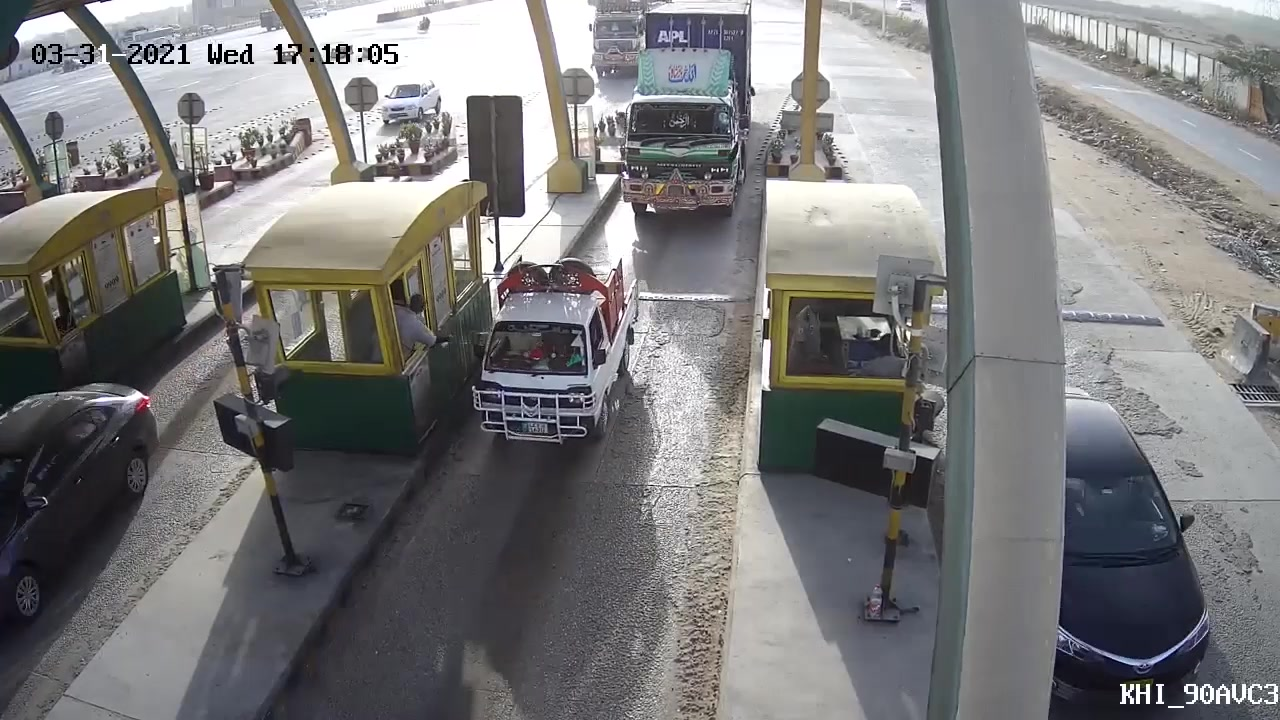F1: (478, 244, 644, 460)
